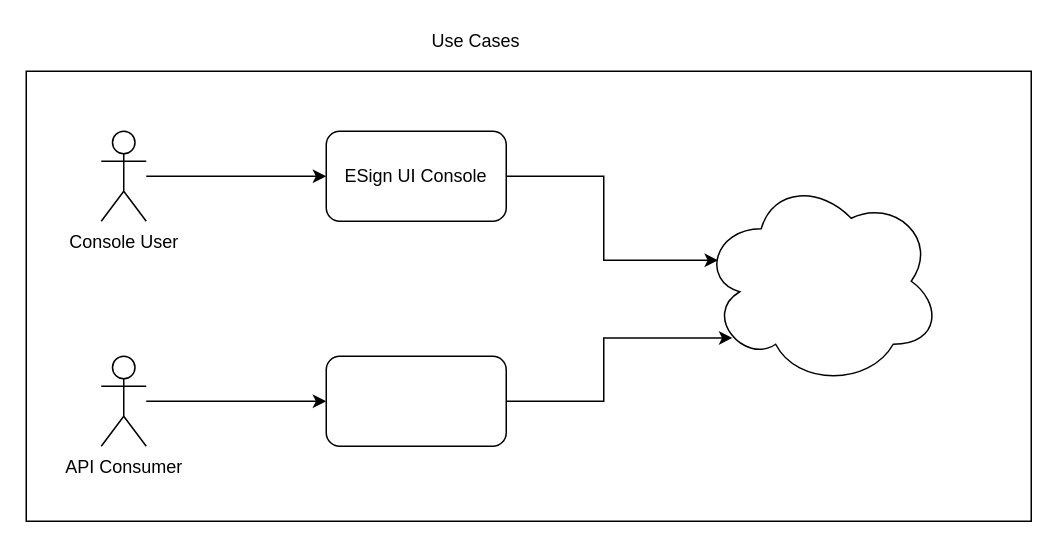
This 1058x548 diagram has some shape labels left out. Here are the shapes that lost their labels. From the top down, the centre of each, then its label:
At [820,280]: "ESign Vendor".
At [415,400]: "TIAA ESignature API".
